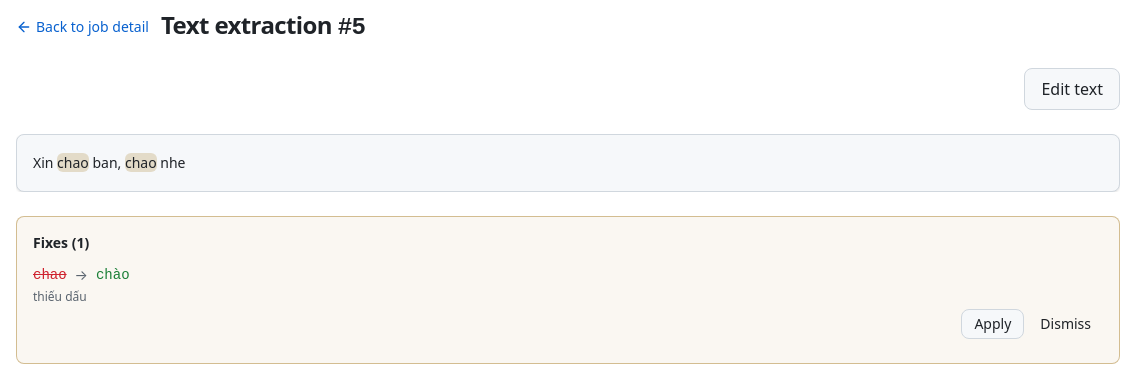
clicking mark opens popover with Áp dụng / Bỏ qua
Click the 1st button "chao" at coordinates (73, 163), box [57,151,89,175]
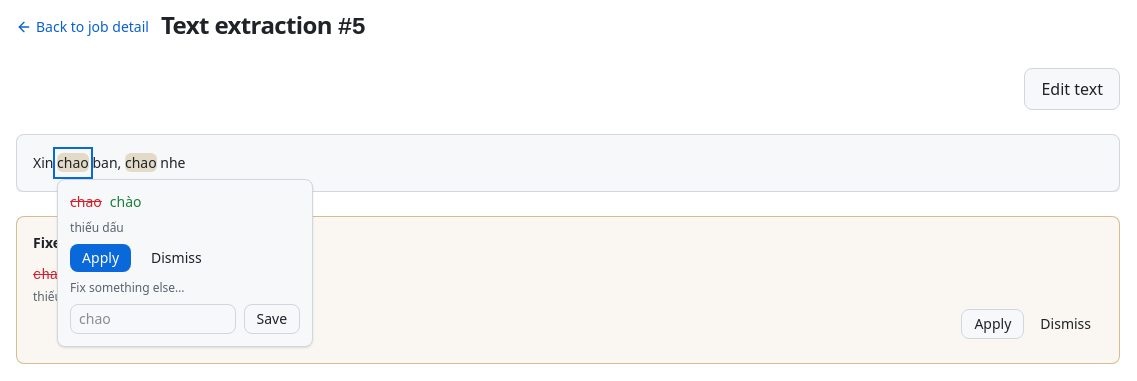
Now the 1st text "thiếu dấu" is shown, box [70,219,124,236]
Now the button with test id "btn-apply-11" is shown, box [70,244,131,272]
Now the button with test id "btn-reject-11" is shown, box [139,244,214,272]
